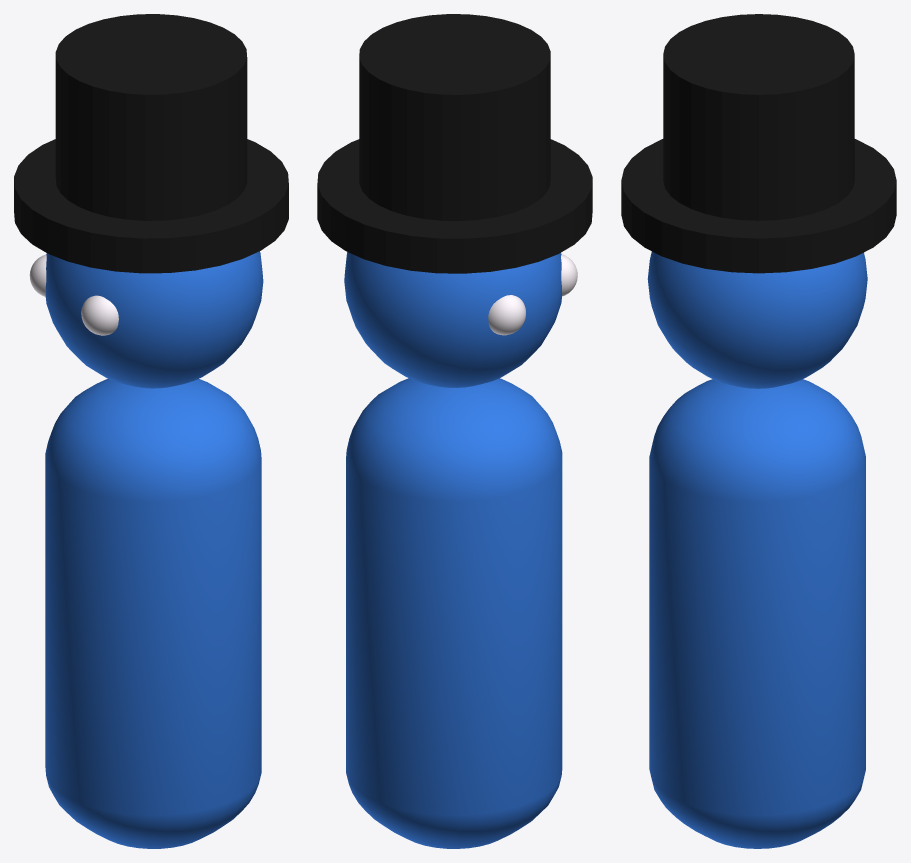
The model's file is Person Hat.fbx.
3 renders of one model, left to right at view 1: azimuth 30°, elevation 25°; view 2: azimuth 150°, elevation 25°; view 3: azimuth 270°, elevation 25°, orthographic.
Parts seen in each view (by area): view 1: Cylinder.002, Cylinder.003, Sphere.008, Sphere.010, Sphere.009; view 2: Cylinder.002, Cylinder.003, Sphere.008, Sphere.009, Sphere.010; view 3: Cylinder.002, Cylinder.003, Sphere.008.
Boxes of the visible parts, x1,y1,x2,y2 form: Cylinder.002: (45, 379, 261, 848); Cylinder.003: (14, 14, 288, 273); Sphere.008: (45, 251, 263, 388); Sphere.010: (81, 295, 118, 335); Sphere.009: (29, 254, 46, 296); Cylinder.002: (346, 378, 562, 848); Cylinder.003: (317, 14, 592, 273); Sphere.008: (344, 252, 562, 387); Sphere.009: (488, 295, 525, 335); Sphere.010: (561, 254, 577, 296); Cylinder.002: (649, 379, 865, 848); Cylinder.003: (621, 14, 896, 273); Sphere.008: (647, 251, 867, 388).
Size of the model in its own units: 203 by 634 by 203.
